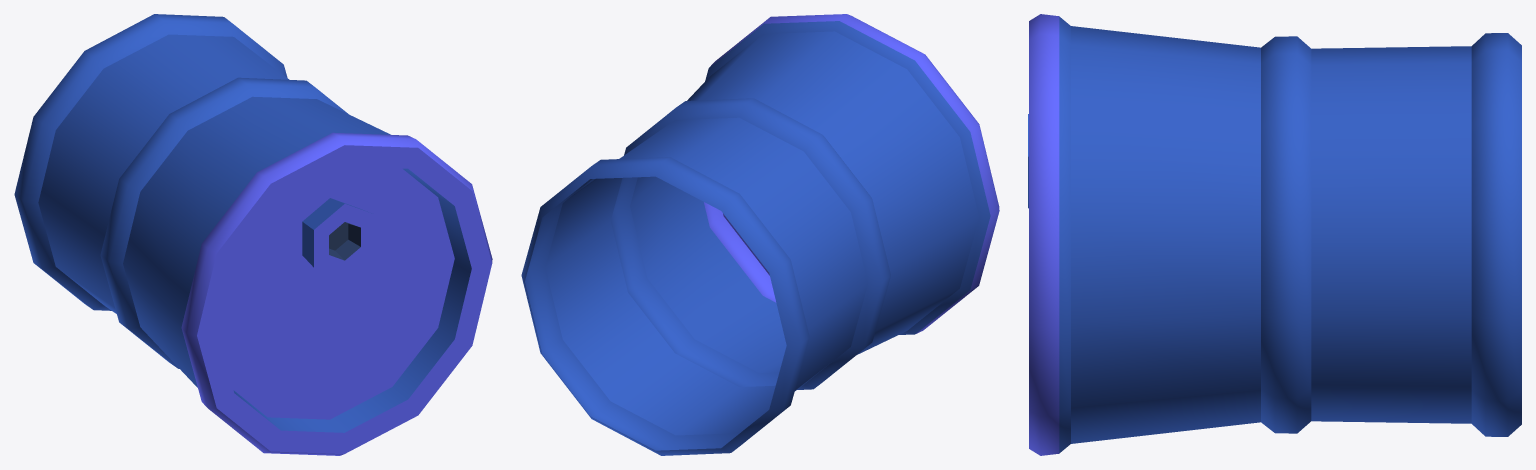
The model's file is bb_barrel.glb.
The picture shows the model from 3 angles, left to right: view 1: azimuth 30°, elevation 25°; view 2: azimuth 150°, elevation 25°; view 3: azimuth 270°, elevation 25°; orthographic projection. The views are drawn at different scales.
Visible parts, largest first — view 1: barrel_2; view 2: barrel_2; view 3: barrel_2.
Boxes of the visible parts, x1,y1,x2,y2 form: barrel_2: (14, 14, 492, 455); barrel_2: (521, 14, 999, 455); barrel_2: (1028, 14, 1521, 455).
Bounding box in the file's own units: 0.9908 × 0.9908 × 1.1.
Materials: 1 (1 with a texture image).
